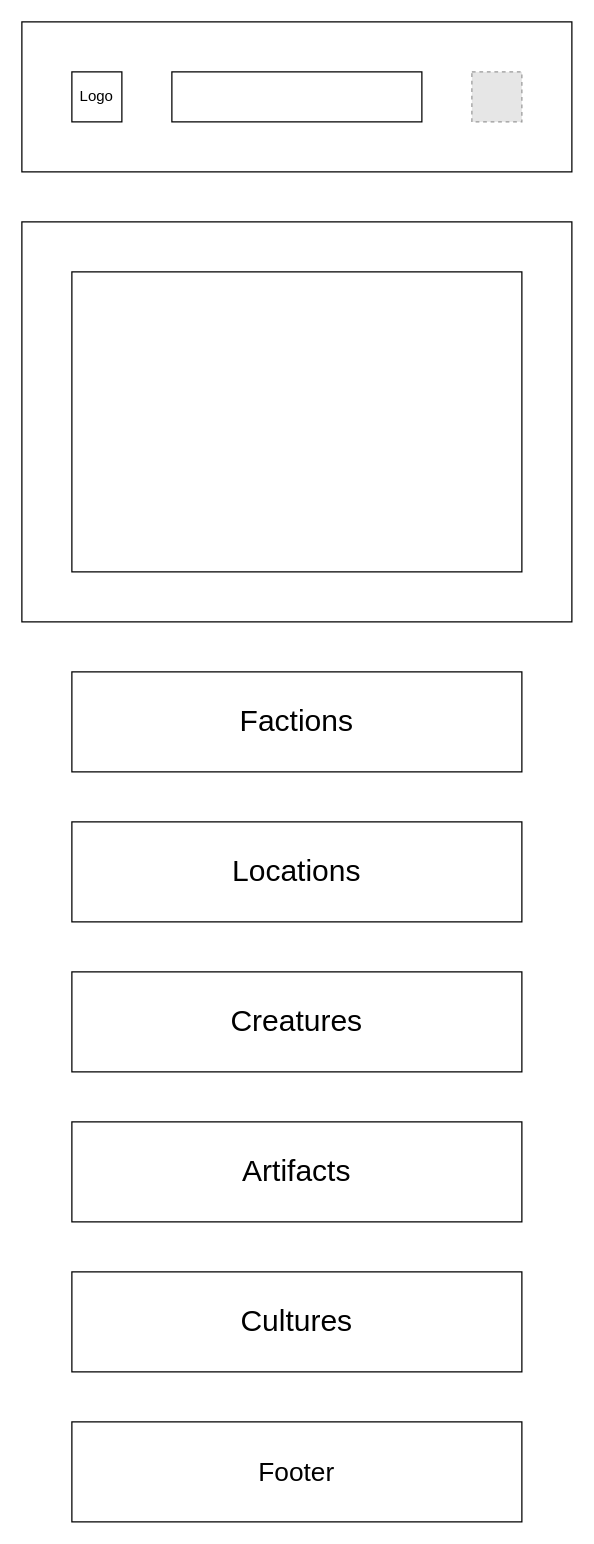
Some shapes in this 594 by 1544 pixel diagram are drawn without their labels. Grey dashed boxes stand in for pictures. The shapes that lost their labels are listed below. From the top down, each one's box as (x1, y1, x2, y2) in pixels, then its label:
(171, 71, 422, 122): World-Building Codex
(71, 271, 522, 572): Explore the World A structured encyclopedia for a fictional setting
